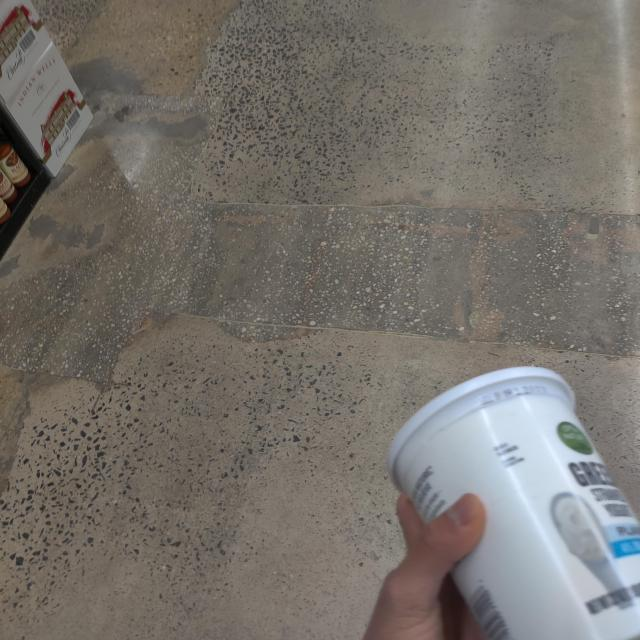Yogurt: (389, 365, 640, 640)
